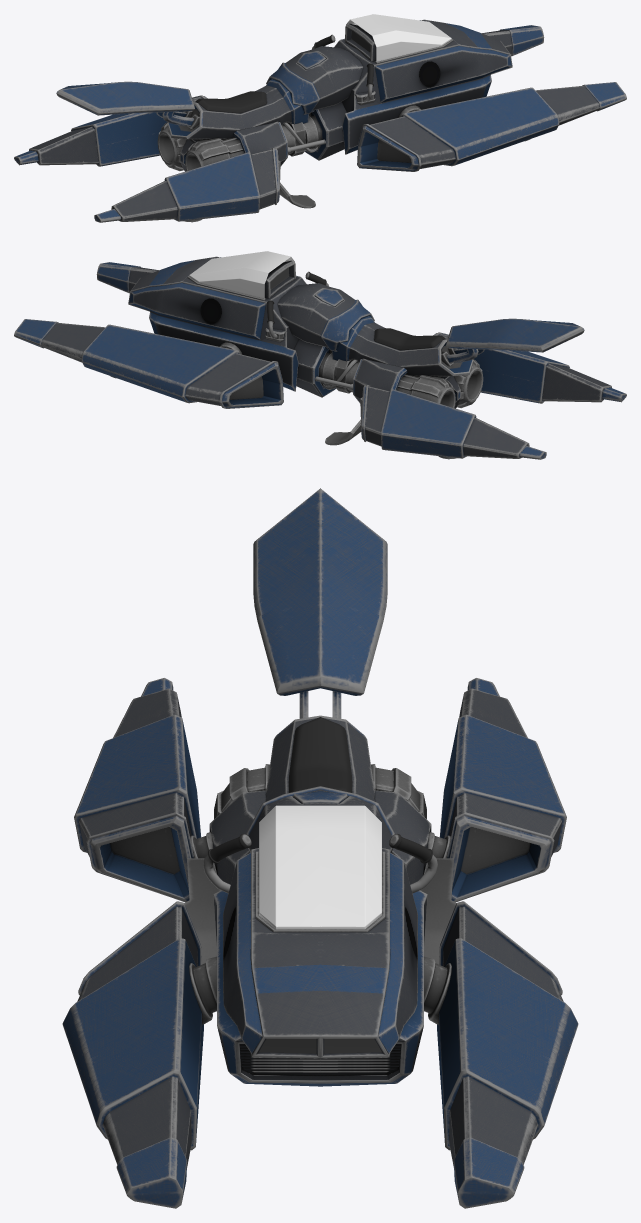
Rendered from SM_HoverBike_Racer.fbx.
3 views of the same model, one above another, from view 1: azimuth 30°, elevation 25°; view 2: azimuth 150°, elevation 25°; view 3: azimuth 270°, elevation 25° (orthographic). The views are drawn at different scales.
Visible parts, largest first — view 1: HoverFins, HoverBikeBlockout, HoverBikeSeat, HoverBikeEngine, HoverBikeGas, HoverBikeGlass, HoverBikeChair, HoverBikeEngineCovers, Handle; view 2: HoverFins, HoverBikeBlockout, HoverBikeSeat, HoverBikeEngine, HoverBikeGas, HoverBikeGlass, HoverBikeChair, HoverBikeEngineCovers, Handle; view 3: HoverFins, HoverBikeBlockout, HoverBikeSeat, HoverBikeGlass, HoverBikeEngine, HoverBikeChair, HoverBikeIntake, HoverBikeGas, Handle, HoverBikeEngineCovers, HoverBikeGlassFrame.
Boxes of the visible parts, x1,y1,x2,y2 form: HoverFins: (14, 25, 626, 222); HoverBikeBlockout: (334, 19, 512, 154); HoverBikeSeat: (56, 79, 314, 139); HoverBikeEngine: (157, 101, 421, 208); HoverBikeGas: (266, 46, 363, 114); HoverBikeGlass: (346, 14, 451, 61); HoverBikeChair: (195, 91, 266, 113); HoverBikeEngineCovers: (158, 122, 243, 171); Handle: (312, 34, 375, 104); HoverFins: (14, 262, 626, 459); HoverBikeBlockout: (128, 256, 306, 391); HoverBikeSeat: (326, 316, 584, 376); HoverBikeEngine: (219, 338, 483, 445); HoverBikeGas: (277, 283, 374, 351); HoverBikeGlass: (189, 251, 294, 298); HoverBikeChair: (374, 328, 445, 350); HoverBikeEngineCovers: (397, 359, 482, 408); Handle: (265, 271, 328, 341); HoverFins: (62, 678, 578, 1208); HoverBikeBlockout: (213, 848, 427, 1086); HoverBikeSeat: (253, 488, 387, 801); HoverBikeGlass: (259, 805, 381, 929); HoverBikeEngine: (184, 767, 456, 1024); HoverBikeChair: (289, 717, 351, 792); HoverBikeIntake: (240, 1043, 400, 1072); HoverBikeGas: (246, 786, 394, 852); Handle: (203, 834, 437, 893); HoverBikeEngineCovers: (214, 764, 426, 818); HoverBikeGlassFrame: (255, 851, 385, 932).
Size of the model in its own units: 333 by 142 by 87.7.
Materials: 2 (1 with a texture image).
